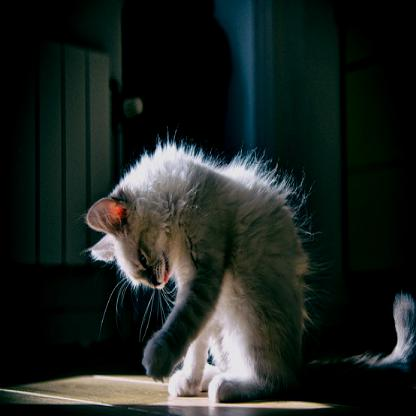cat: (85, 145, 415, 404)
